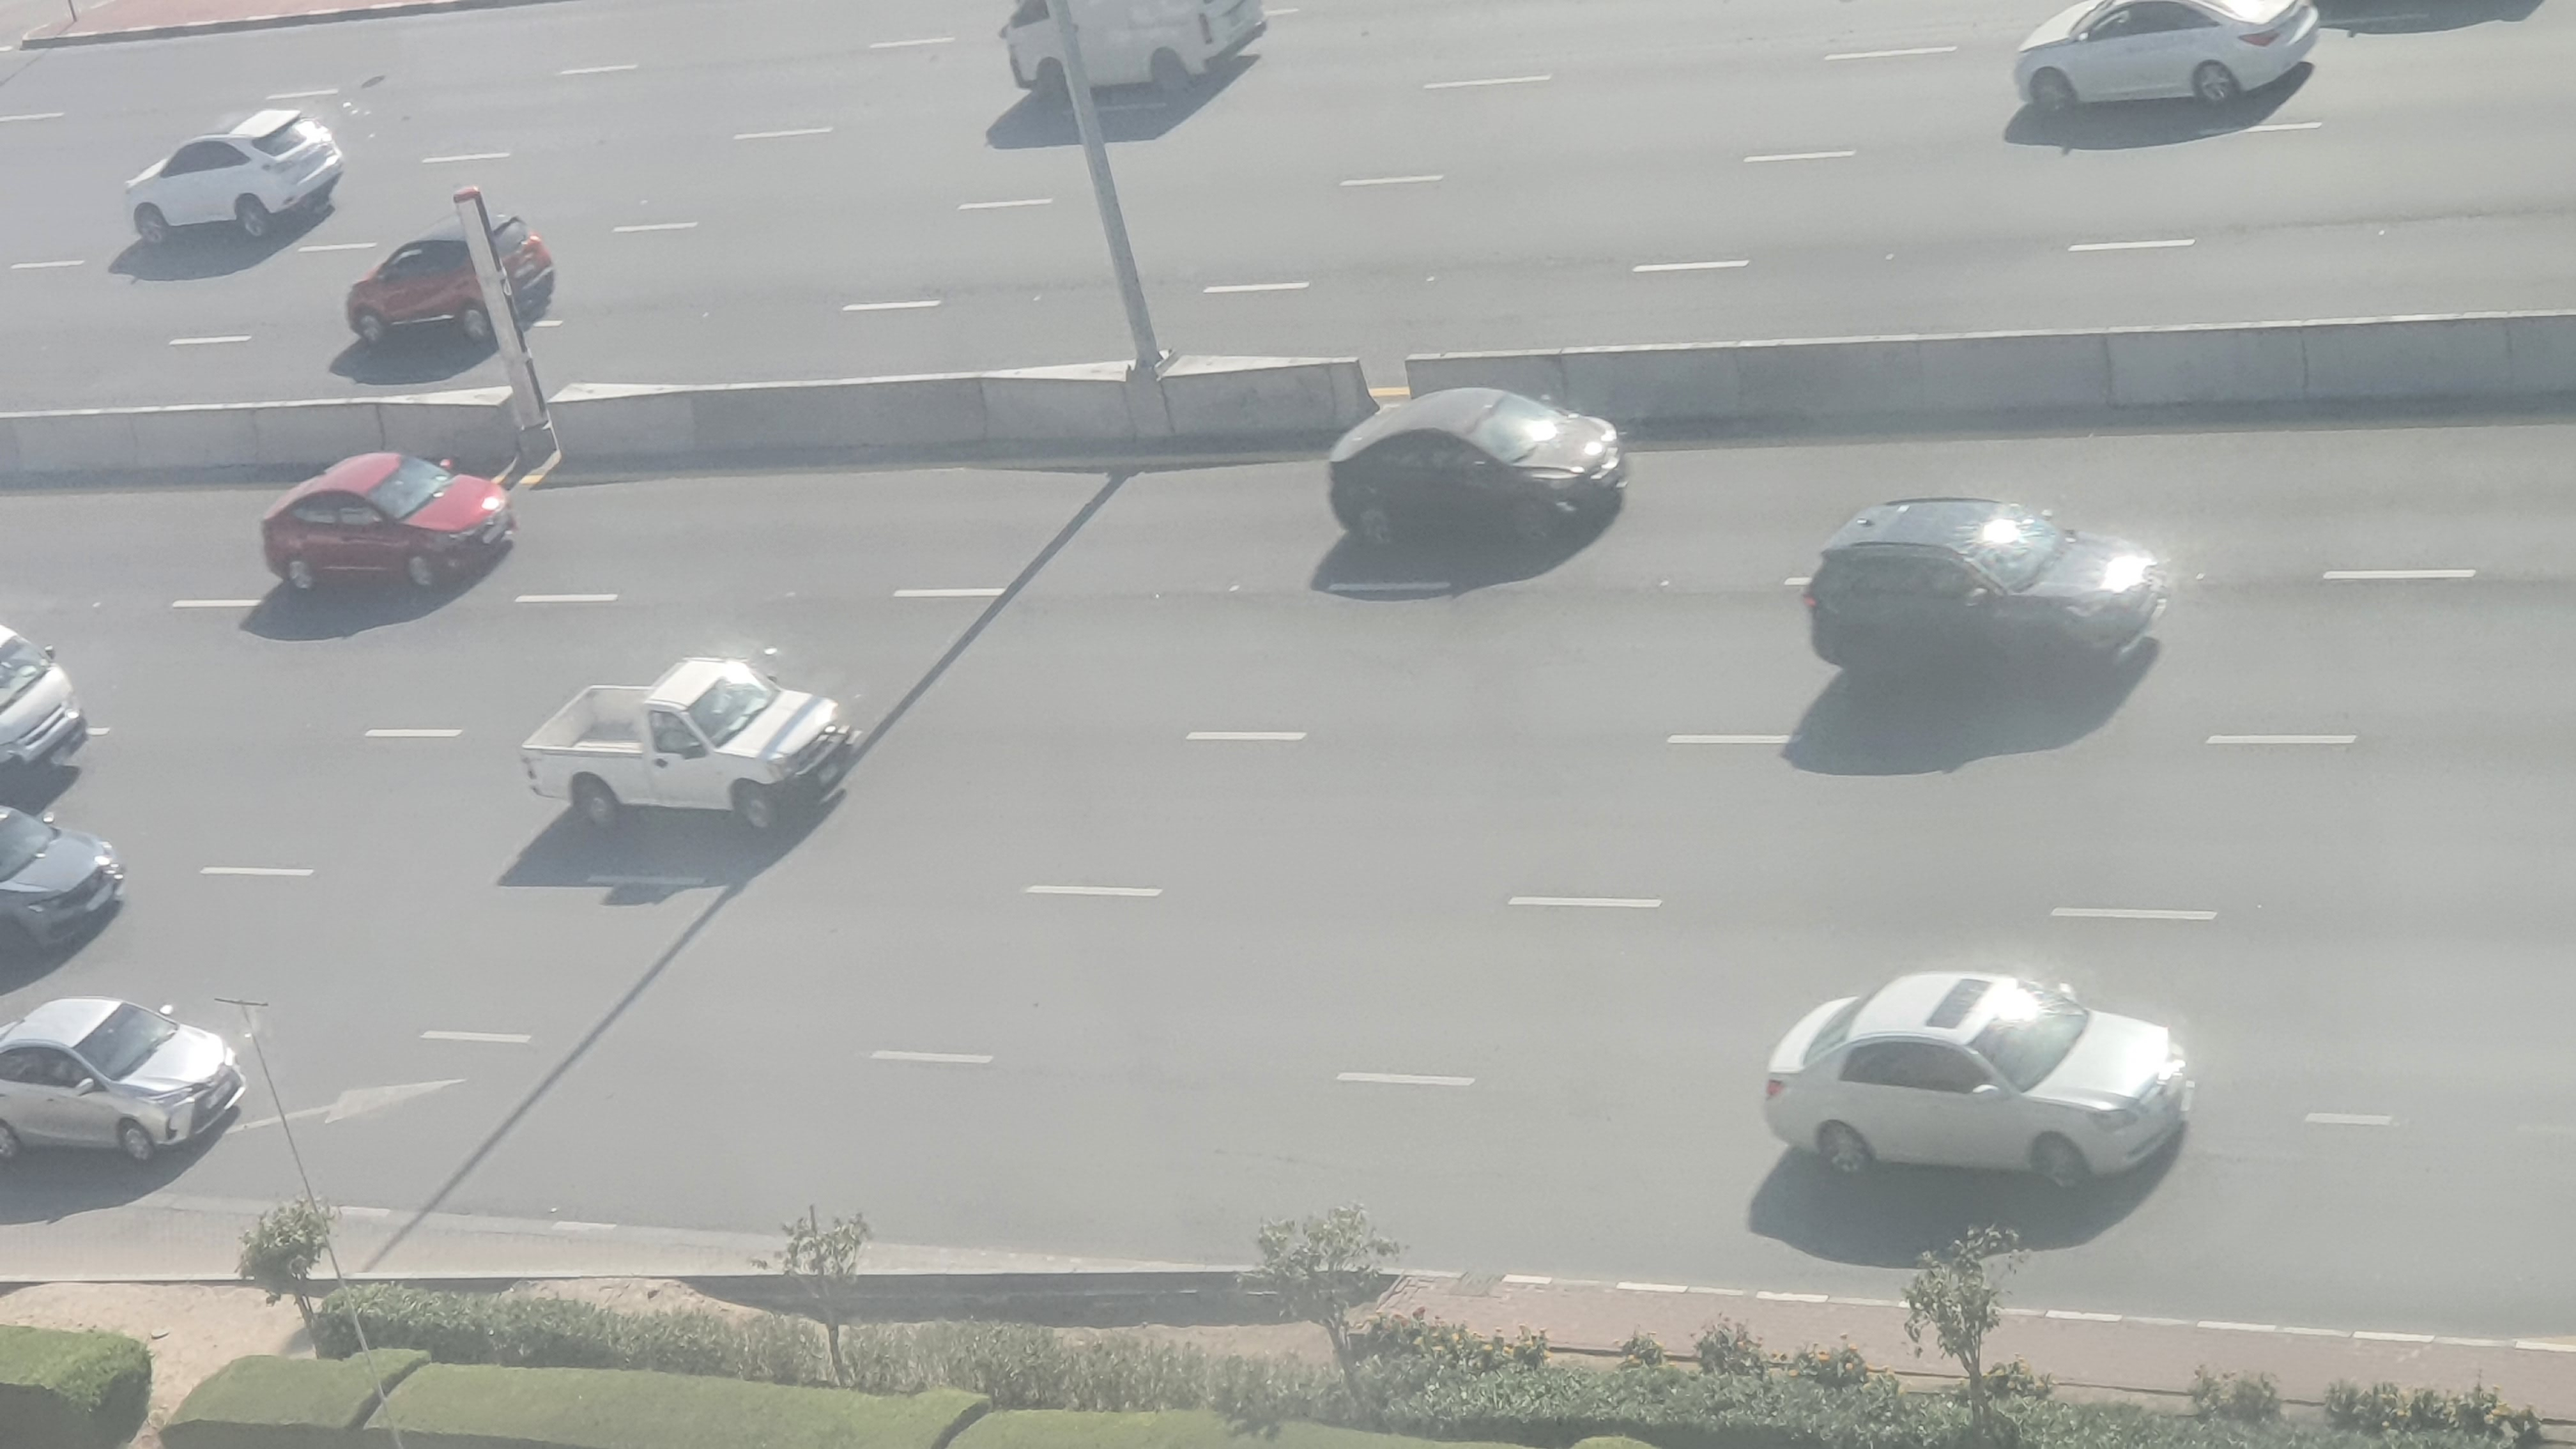NotSunroof: (1311, 375, 1628, 563), (244, 446, 529, 610), (0, 993, 244, 1175)
Sunroof: (1752, 961, 2194, 1198), (1799, 488, 2167, 704)
